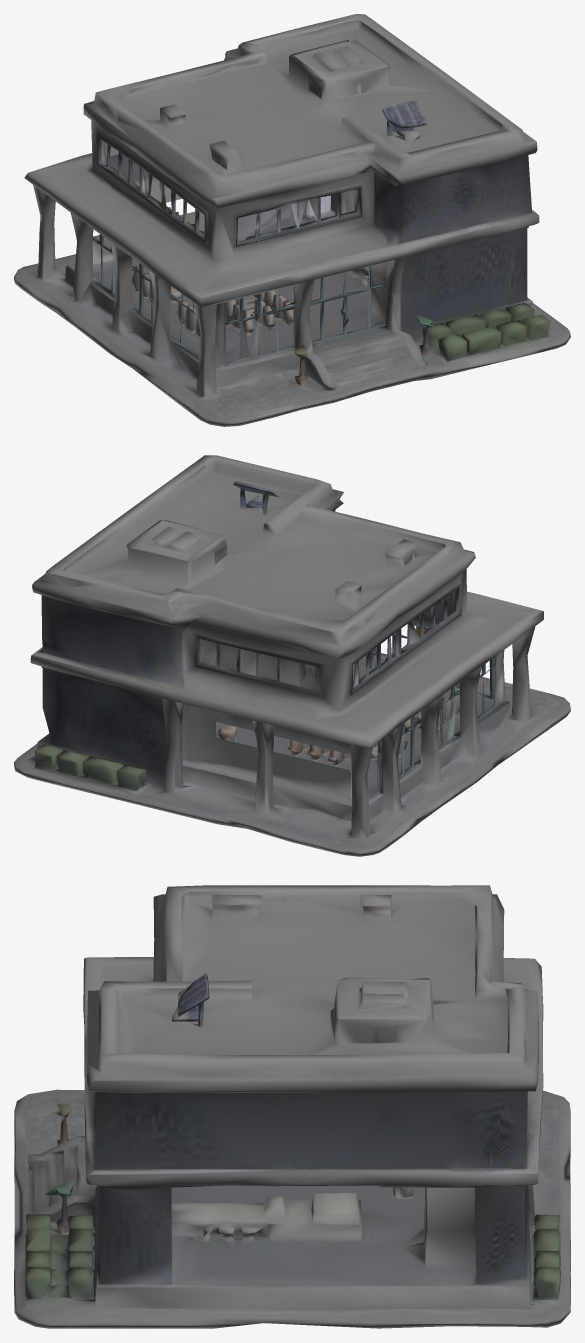
File: university_main.glb
3 views of the same model, one above another, from view 1: azimuth 30°, elevation 25°; view 2: azimuth 150°, elevation 25°; view 3: azimuth 270°, elevation 25° (orthographic). The views are drawn at different scales.
Parts seen in each view (by area): view 1: tripo_node_39247d26-ab16-4650-8b94-749c64b095a4; view 2: tripo_node_39247d26-ab16-4650-8b94-749c64b095a4; view 3: tripo_node_39247d26-ab16-4650-8b94-749c64b095a4.
Boxes of the visible parts, x1,y1,x2,y2 form: tripo_node_39247d26-ab16-4650-8b94-749c64b095a4: (14, 14, 570, 426); tripo_node_39247d26-ab16-4650-8b94-749c64b095a4: (14, 455, 570, 856); tripo_node_39247d26-ab16-4650-8b94-749c64b095a4: (14, 885, 570, 1328).
Bounding box in the file's own units: 0.9919 × 0.5474 × 1.
Materials: 1 (1 with a texture image).
